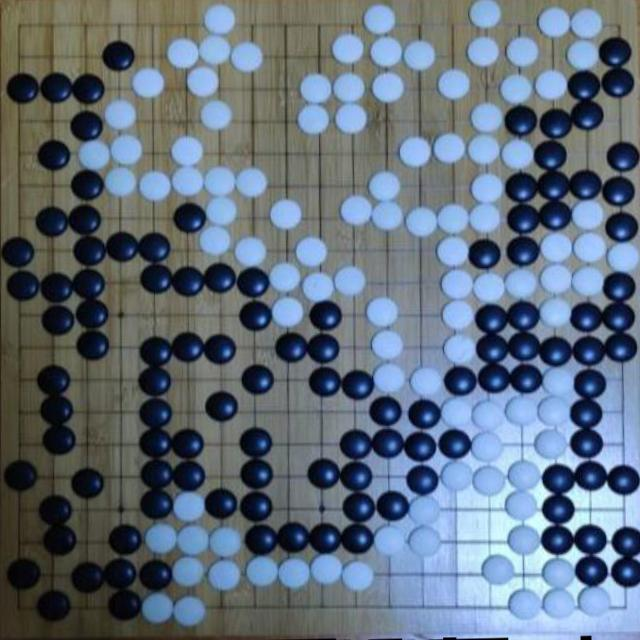blackstone: (73, 235, 108, 268), (36, 590, 72, 622), (6, 72, 40, 105), (42, 524, 77, 556), (72, 268, 107, 300), (5, 558, 40, 590), (67, 204, 102, 236), (139, 559, 173, 591), (71, 562, 105, 594), (4, 460, 38, 492), (35, 206, 69, 238), (537, 169, 571, 201), (539, 108, 573, 140), (70, 110, 104, 142), (601, 68, 635, 100), (42, 425, 77, 456), (138, 232, 173, 263), (70, 170, 105, 201), (602, 176, 637, 207), (7, 270, 40, 302), (2, 236, 35, 268), (104, 558, 137, 590), (72, 73, 105, 105), (339, 430, 373, 461), (342, 492, 376, 523), (407, 399, 441, 430), (245, 524, 279, 555), (443, 366, 477, 397), (239, 300, 273, 331), (171, 332, 205, 363), (506, 236, 540, 267), (203, 263, 237, 294), (38, 495, 72, 526), (237, 267, 271, 298), (139, 398, 173, 429), (140, 336, 174, 367), (140, 263, 174, 294), (40, 272, 74, 303), (568, 169, 602, 200), (571, 100, 605, 131), (604, 212, 638, 243), (504, 105, 538, 136), (567, 70, 601, 101), (108, 590, 142, 621), (599, 36, 633, 67), (102, 40, 136, 71), (239, 492, 274, 522), (139, 428, 174, 458), (75, 299, 110, 329), (438, 429, 471, 460), (71, 468, 104, 499), (109, 525, 142, 556), (542, 464, 575, 495), (42, 305, 75, 336), (478, 362, 511, 393), (507, 203, 540, 234), (475, 303, 508, 334), (505, 172, 538, 203), (575, 555, 608, 586), (539, 200, 572, 231), (603, 272, 636, 303), (41, 72, 74, 103), (204, 489, 238, 519), (339, 461, 373, 491), (240, 428, 274, 458), (205, 392, 239, 422), (277, 523, 311, 553), (370, 429, 404, 459), (173, 460, 207, 490), (340, 524, 374, 554), (76, 331, 110, 361), (570, 429, 604, 459), (140, 489, 174, 519), (574, 460, 608, 490), (138, 366, 172, 396), (172, 266, 206, 296), (572, 335, 606, 365), (308, 524, 342, 554), (106, 232, 140, 262), (468, 239, 502, 269), (37, 366, 71, 396), (140, 459, 174, 489), (534, 140, 568, 170), (40, 395, 74, 425), (173, 203, 207, 233), (37, 140, 71, 170), (606, 142, 640, 172), (308, 458, 339, 490), (406, 465, 438, 496), (570, 302, 602, 333), (607, 465, 639, 496), (369, 396, 402, 426), (376, 491, 409, 521), (308, 367, 341, 397), (404, 432, 437, 462), (275, 332, 308, 362), (241, 364, 274, 394), (172, 430, 205, 460), (307, 334, 340, 364), (573, 369, 606, 399), (539, 336, 572, 366), (309, 300, 342, 330), (574, 525, 607, 555), (604, 334, 637, 364), (602, 302, 635, 332), (240, 460, 274, 489), (204, 334, 236, 364), (542, 496, 574, 526), (508, 332, 540, 362), (476, 334, 508, 364), (570, 398, 602, 428), (507, 301, 539, 331), (509, 364, 542, 393), (342, 370, 374, 399), (542, 525, 574, 554), (611, 527, 640, 557), (610, 557, 640, 586)
whitestone: (573, 231, 607, 264), (540, 232, 574, 265), (542, 366, 575, 399), (410, 366, 444, 398), (371, 72, 405, 104), (467, 36, 501, 68), (78, 138, 112, 170), (539, 264, 573, 296), (504, 268, 538, 300), (472, 400, 506, 432), (440, 460, 474, 492), (505, 395, 539, 427), (209, 526, 243, 558), (176, 524, 210, 556), (208, 559, 242, 591), (542, 558, 576, 590), (173, 595, 207, 627), (235, 236, 268, 268), (398, 136, 431, 168), (340, 194, 372, 227), (272, 296, 305, 328), (200, 99, 233, 131), (468, 133, 501, 165), (371, 200, 404, 232), (500, 73, 533, 105), (187, 66, 220, 98), (443, 334, 476, 366), (535, 69, 568, 101), (572, 265, 604, 298), (572, 199, 604, 232), (173, 491, 206, 523), (607, 242, 640, 274), (145, 523, 178, 555), (172, 556, 205, 588), (246, 555, 279, 587), (436, 236, 470, 267), (104, 99, 138, 130), (131, 68, 165, 99), (441, 269, 475, 300), (442, 300, 476, 331), (534, 429, 568, 460), (565, 40, 599, 71), (537, 395, 571, 426), (440, 398, 474, 429), (542, 588, 576, 619), (296, 236, 328, 268), (506, 36, 538, 68), (540, 298, 572, 330), (310, 554, 342, 586), (334, 266, 367, 297), (433, 133, 466, 164), (373, 362, 406, 393), (139, 170, 172, 201), (302, 272, 335, 303), (111, 134, 144, 165), (471, 173, 504, 204), (470, 102, 503, 133), (501, 139, 534, 170), (205, 195, 238, 226), (403, 40, 436, 71), (172, 165, 205, 196), (105, 166, 138, 197), (299, 73, 332, 104), (408, 526, 441, 557), (570, 8, 603, 39), (141, 593, 174, 624), (334, 104, 368, 134), (472, 466, 506, 496), (507, 460, 541, 490), (504, 490, 538, 520), (507, 526, 541, 556), (408, 495, 442, 525), (481, 555, 515, 585), (278, 558, 312, 588), (508, 590, 542, 620), (366, 297, 398, 328), (270, 262, 302, 293), (236, 167, 268, 198), (438, 69, 470, 100), (469, 202, 501, 233), (473, 271, 505, 302), (167, 38, 199, 69), (199, 34, 231, 65), (470, 432, 502, 463), (371, 330, 404, 360), (270, 199, 303, 229), (368, 171, 401, 201), (171, 136, 204, 166), (405, 207, 438, 237), (199, 226, 232, 256), (297, 104, 330, 134), (333, 72, 366, 102), (370, 36, 403, 66), (538, 7, 571, 37), (342, 561, 375, 591), (578, 586, 611, 616), (231, 42, 263, 72), (332, 34, 364, 64), (204, 4, 236, 34), (374, 526, 406, 556), (363, 5, 396, 34), (204, 167, 236, 196), (438, 204, 468, 234), (470, 0, 502, 28)
